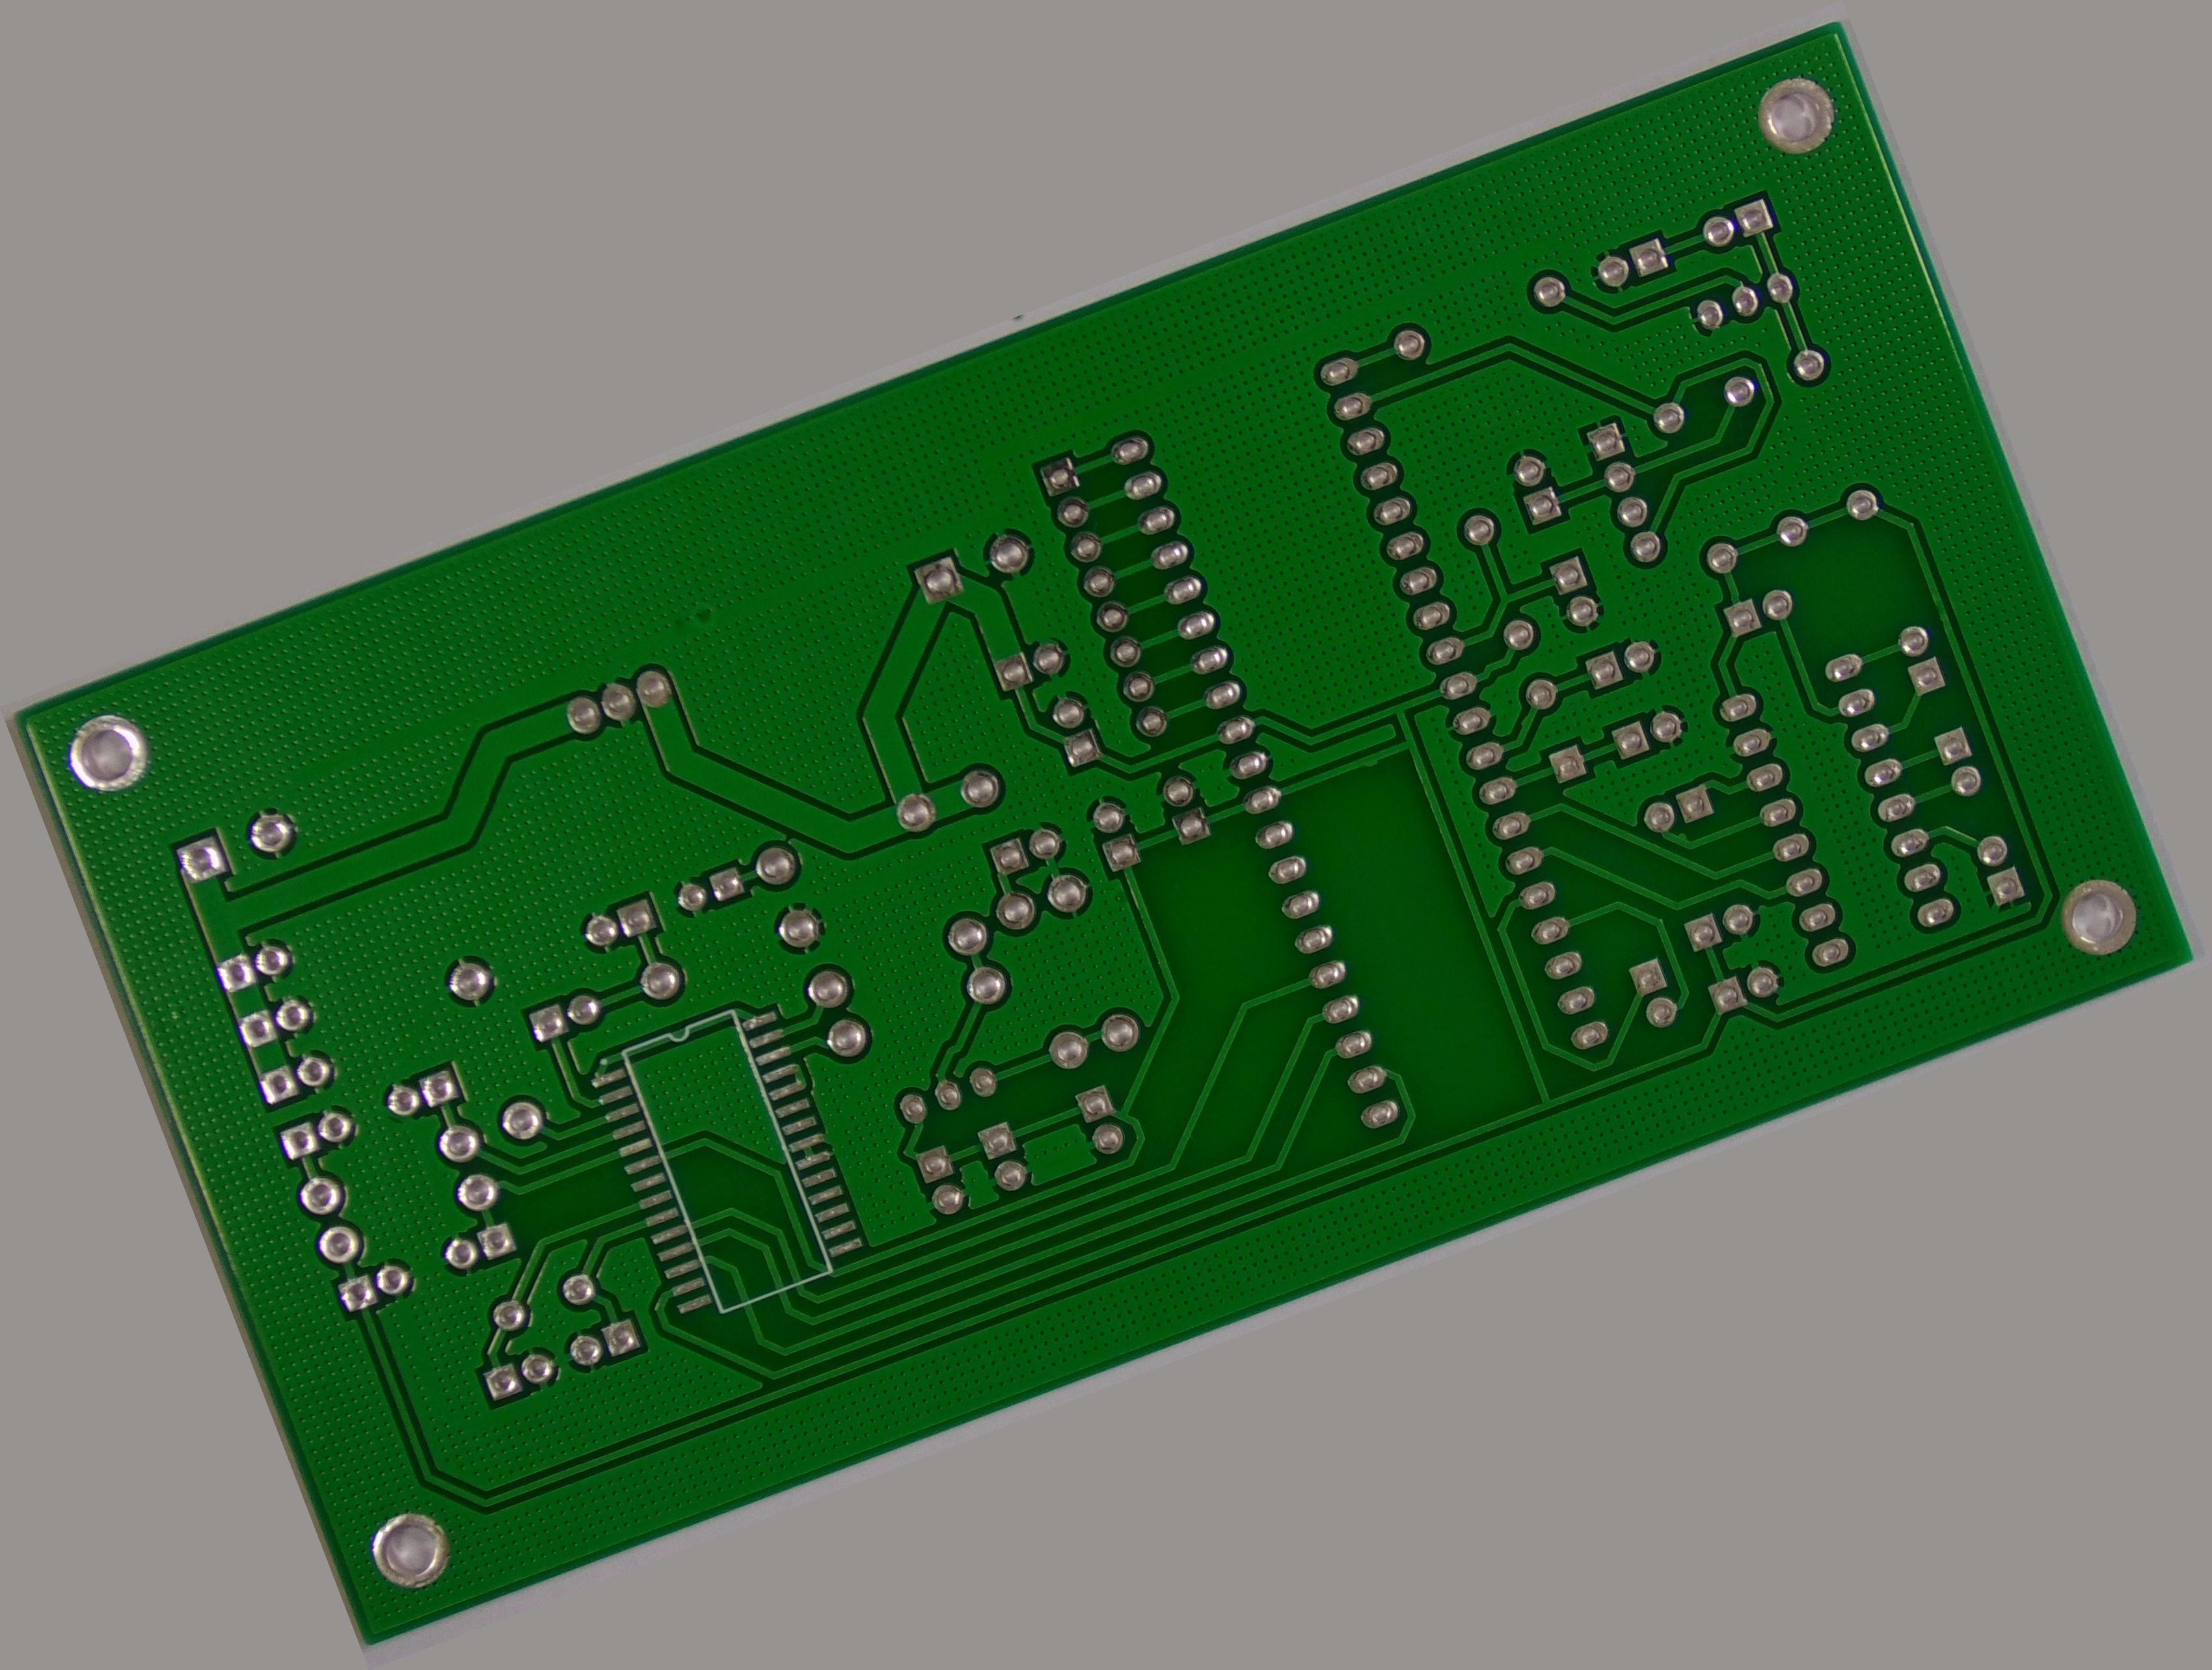spur: (1351, 744, 1393, 781), (1507, 703, 1547, 740), (1666, 824, 1695, 854)
